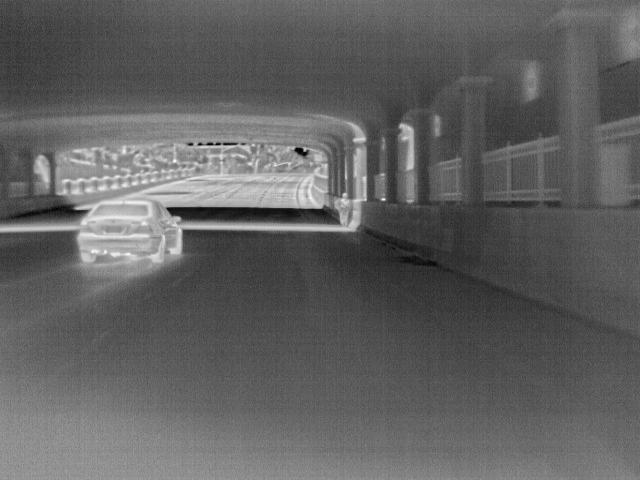car: (75, 197, 184, 266)
person: (336, 190, 354, 226)
